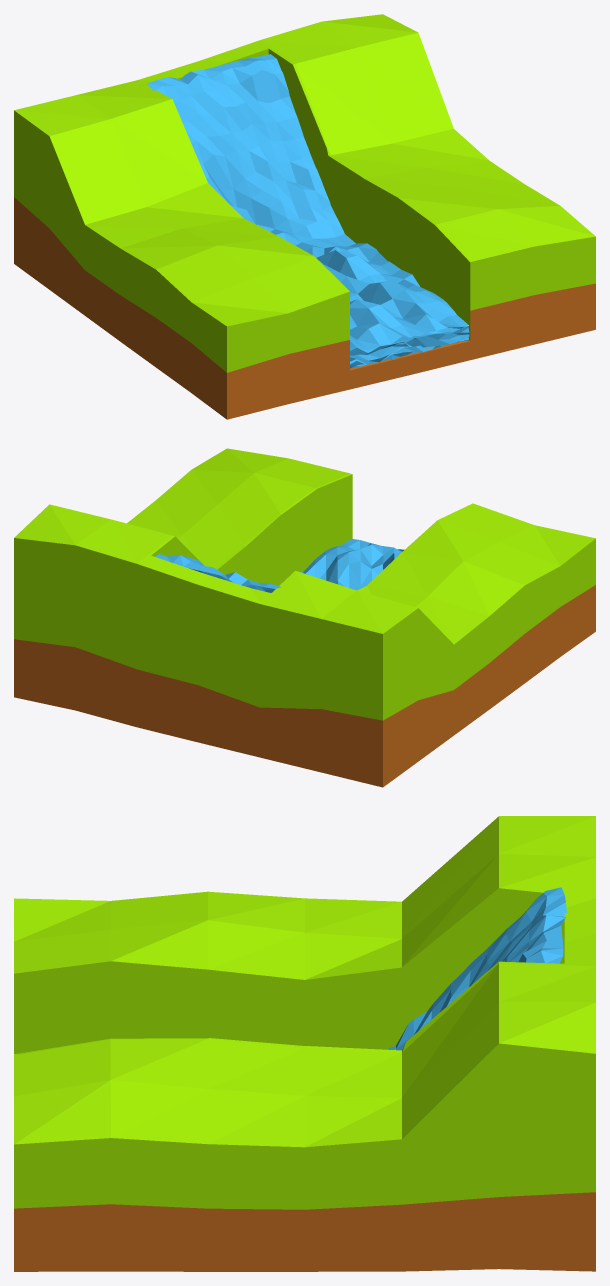
Rendered from CASCADE_roche-eau.fbx.
3 renders of one model, top to bottom at view 1: azimuth 30°, elevation 25°; view 2: azimuth 150°, elevation 25°; view 3: azimuth 270°, elevation 25°, orthographic. The views are drawn at different scales.
Visible parts, largest first — view 1: Plane; view 2: Plane; view 3: Plane.
Boxes of the visible parts, bbox=[...] form: Plane: bbox=[14, 14, 595, 419]; Plane: bbox=[14, 448, 595, 787]; Plane: bbox=[14, 816, 595, 1271].
Bounding box in the file's own units: 5 × 2.17 × 5.
